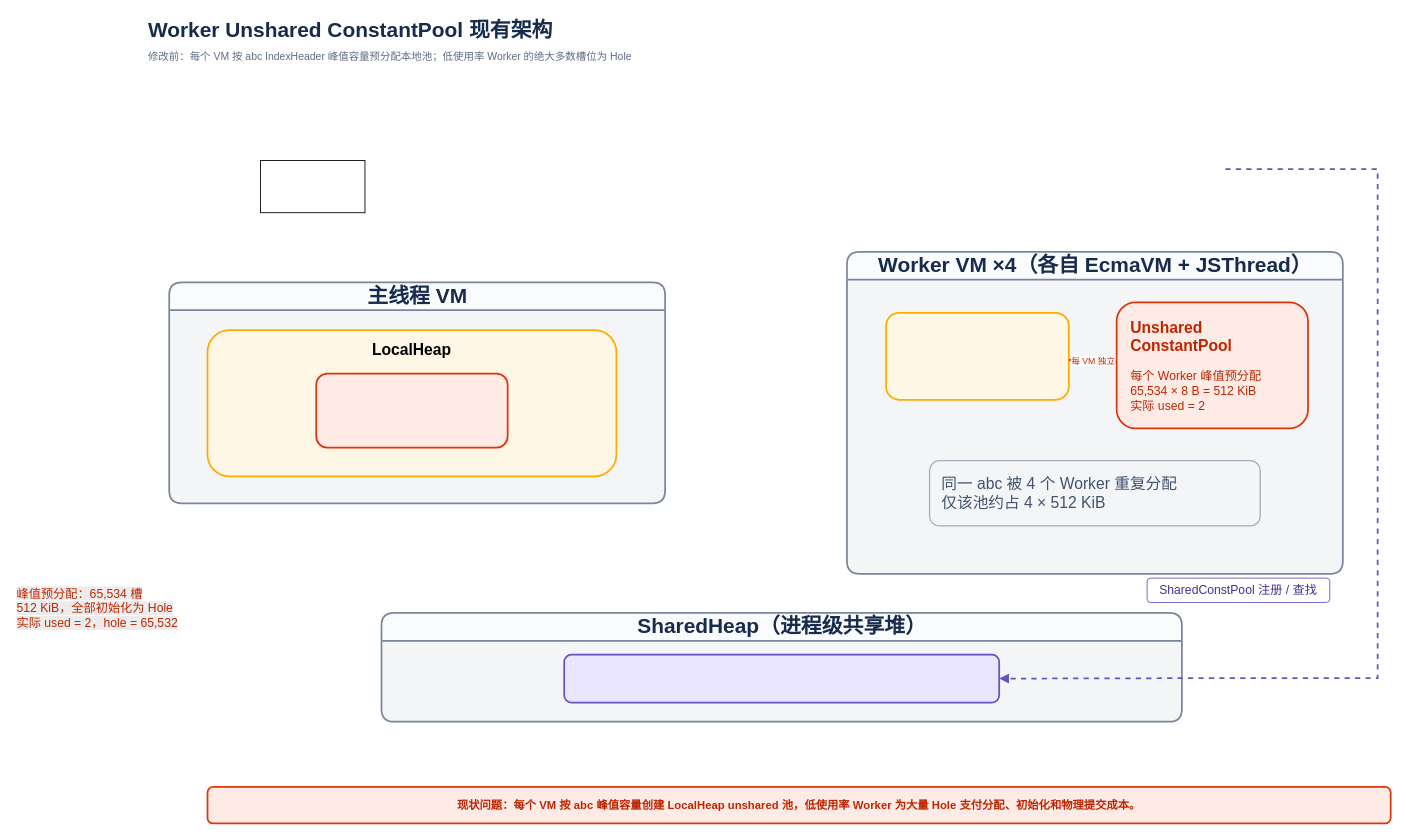
The diagram is 1406 pixels wide and 839 high, and some of its shapes have lost their labels. The shapes that lost their labels are listed below. From the top down, each one's centre as x and y in pixels, then its label:
At point (977, 355): "LocalHeap unsharedConstpools_[] 每个 Worker 独立持有".
At point (411, 410): "Unshared ConstantPool".
At point (781, 678): "SharedConstPool ×96 跨 VM 共享；本 Phase 不改变对象布局、容量与注册方式".
